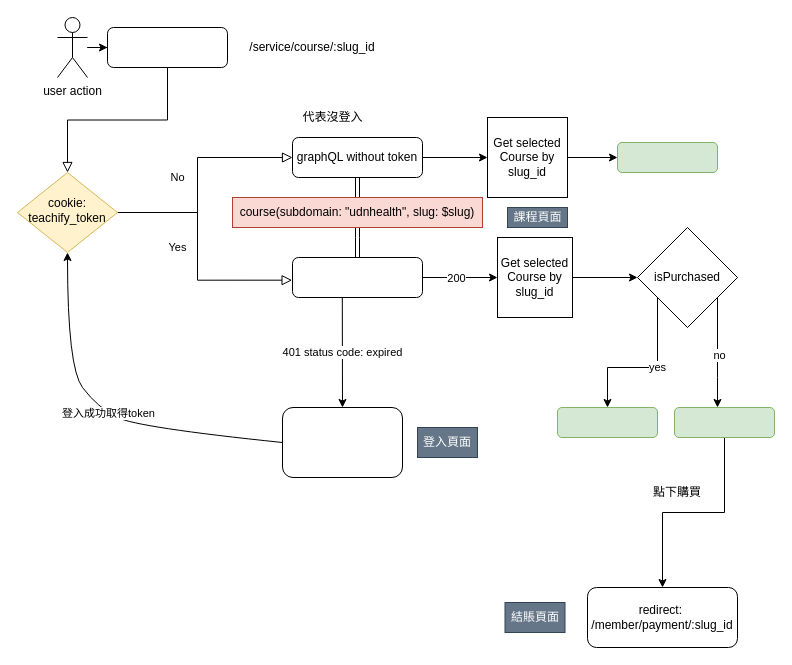
Image size: 792x665. Some labels were removed from this diagram. Here are the shapes that lost their labels. From the top down, the centre of each, then its label:
point (167, 47): url: course_page
point (667, 157): button: 登入購買
point (357, 277): graphQL with token
point (342, 442): remove teachify_token and redirect /member/login
point (607, 422): button: 觀看課程
point (724, 422): button: 購買課程
